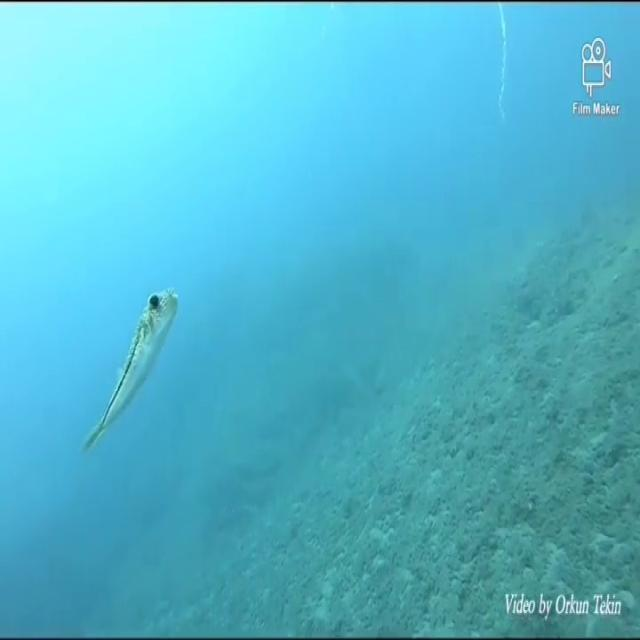Balon Baligi: (80, 285, 180, 453)
